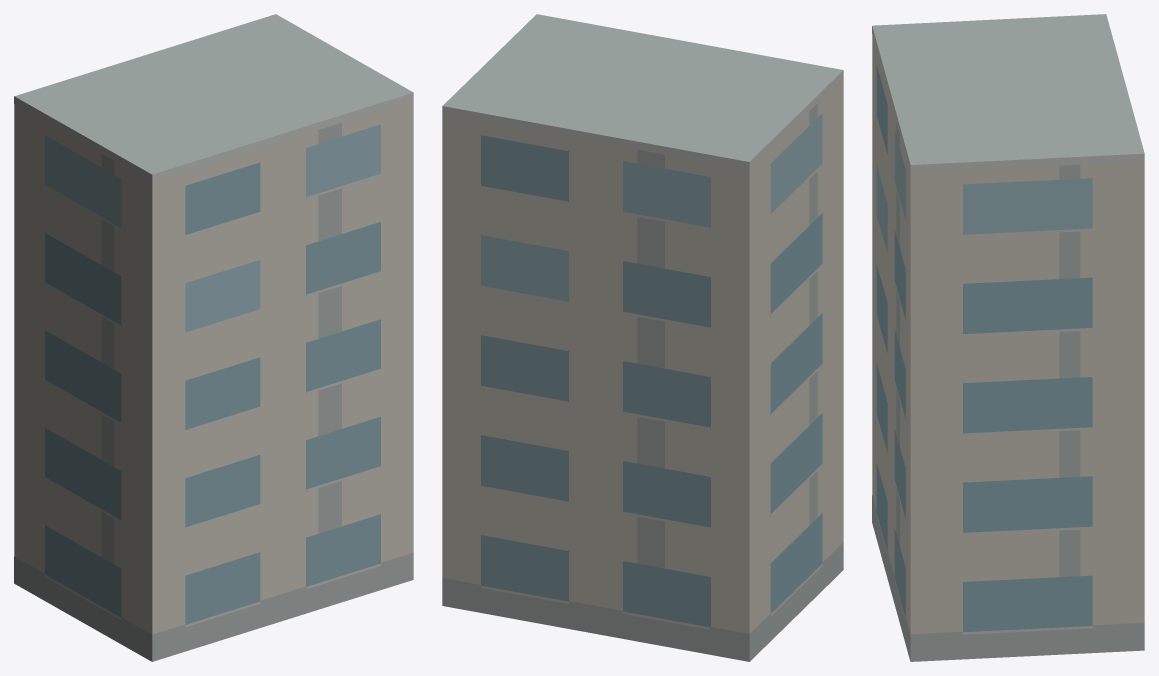
Rendered from residential-30393091-9524-48f1-a352-4b60b198e796.glb.
3 views of the same model, side by side, from view 1: azimuth 30°, elevation 25°; view 2: azimuth 150°, elevation 25°; view 3: azimuth 270°, elevation 25° (orthographic). The views are drawn at different scales.
Parts seen in each view (by area): view 1: residential-30393091-9524-48f1-a352-4b60b198e796.tmp; view 2: residential-30393091-9524-48f1-a352-4b60b198e796.tmp; view 3: residential-30393091-9524-48f1-a352-4b60b198e796.tmp.
Part boxes in pixels (x1,y1,x2,y2): residential-30393091-9524-48f1-a352-4b60b198e796.tmp: (14,14,413,661); residential-30393091-9524-48f1-a352-4b60b198e796.tmp: (442,14,843,661); residential-30393091-9524-48f1-a352-4b60b198e796.tmp: (872,14,1144,661).
Size of the model in its own units: 9.95 by 15.25 by 7.59.
